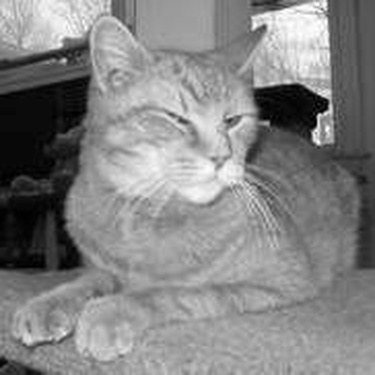cat: (13, 10, 359, 333)
